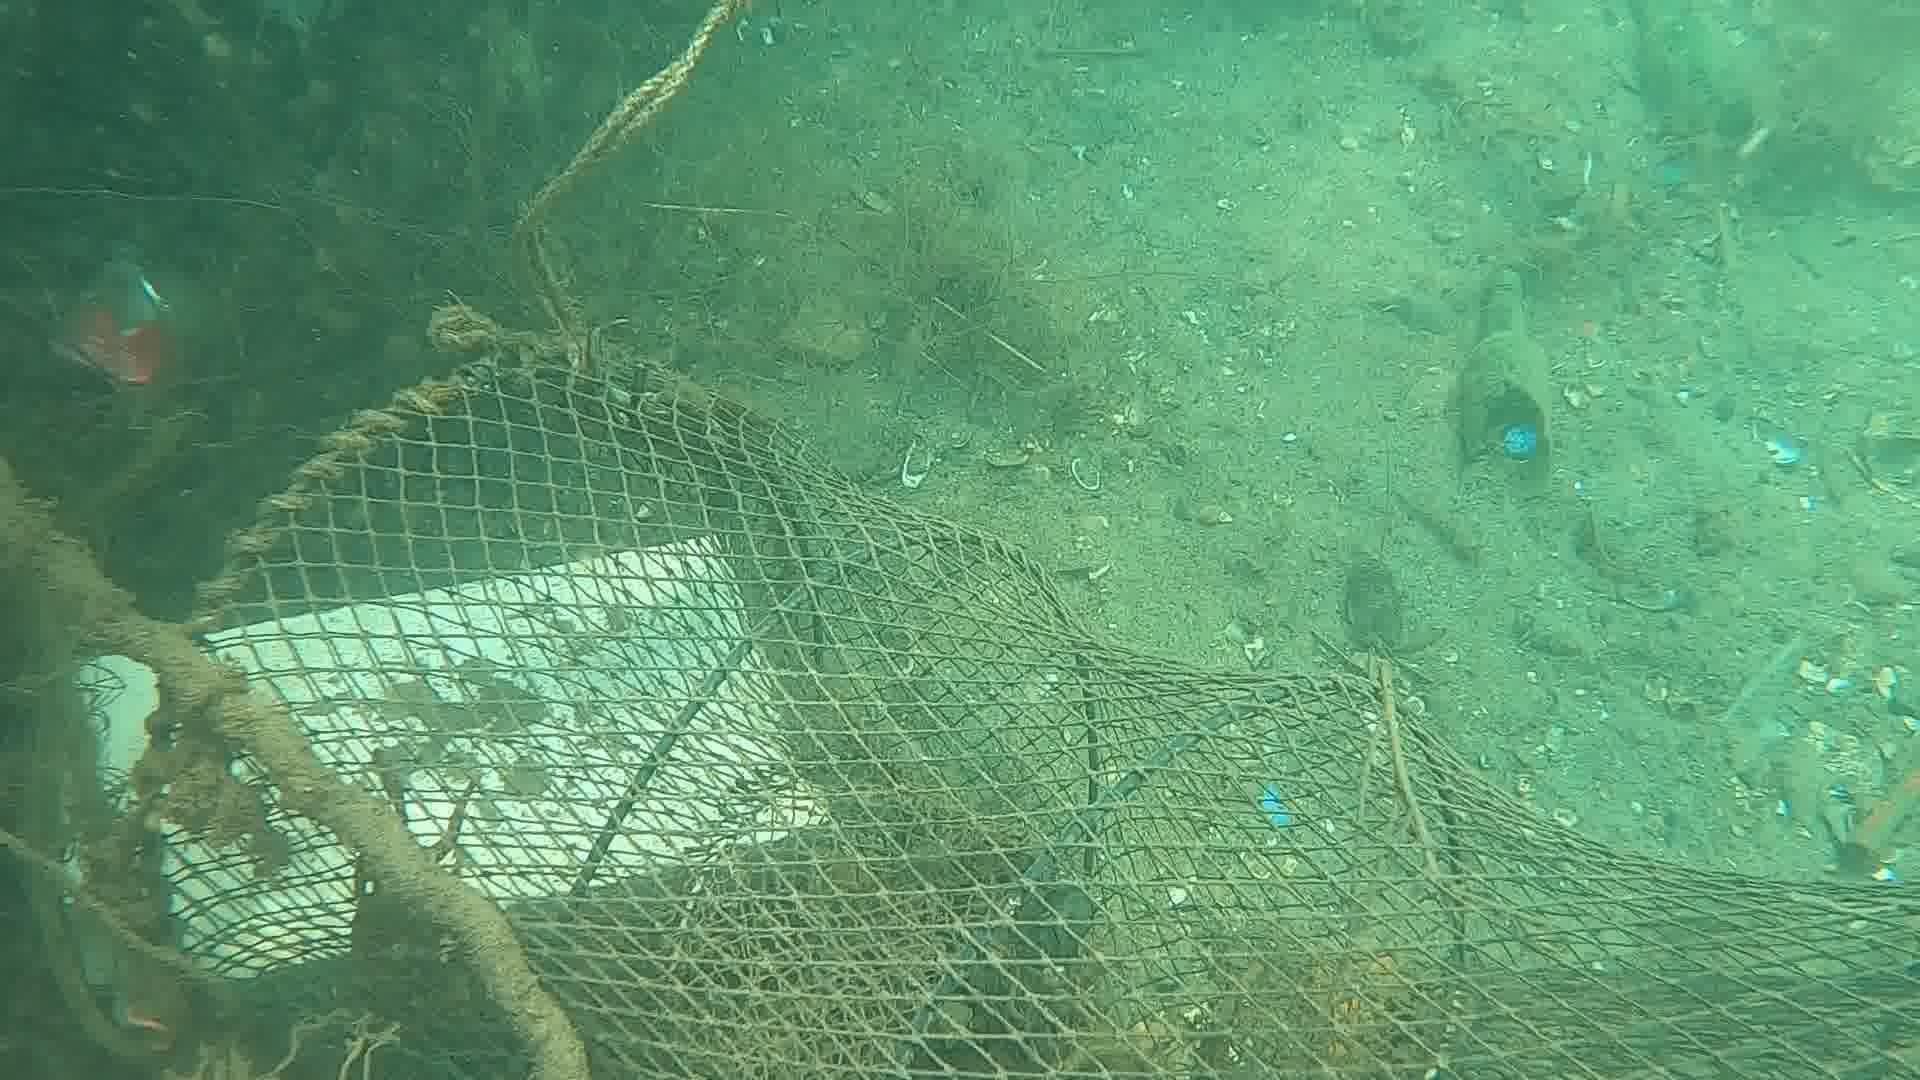bundle of ropes: (504, 0, 733, 338)
spring fish trap: (94, 328, 1920, 1080)
